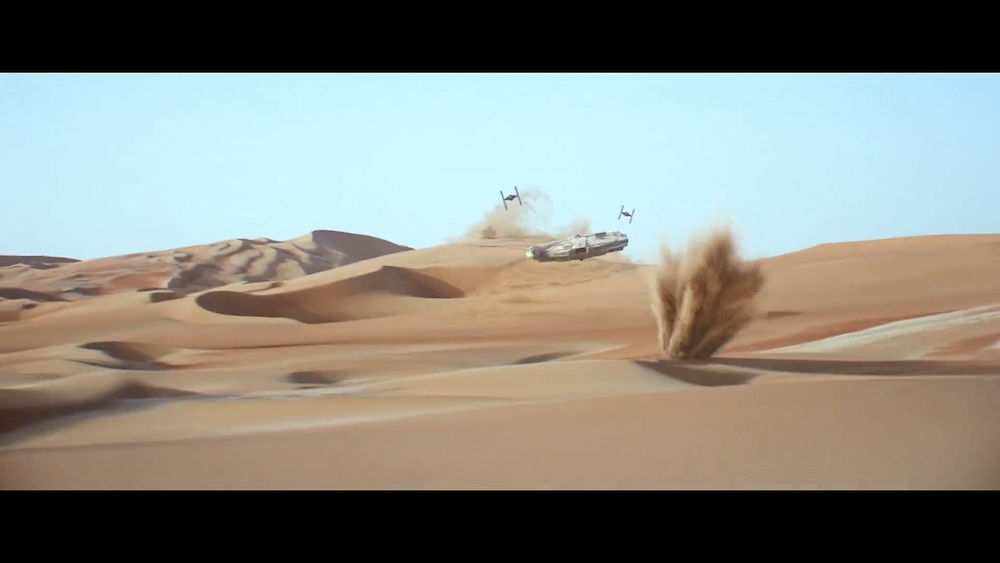Millennium Falcon: (526, 232, 629, 263)
Tie Fighter: (498, 186, 523, 212), (618, 206, 636, 225)
